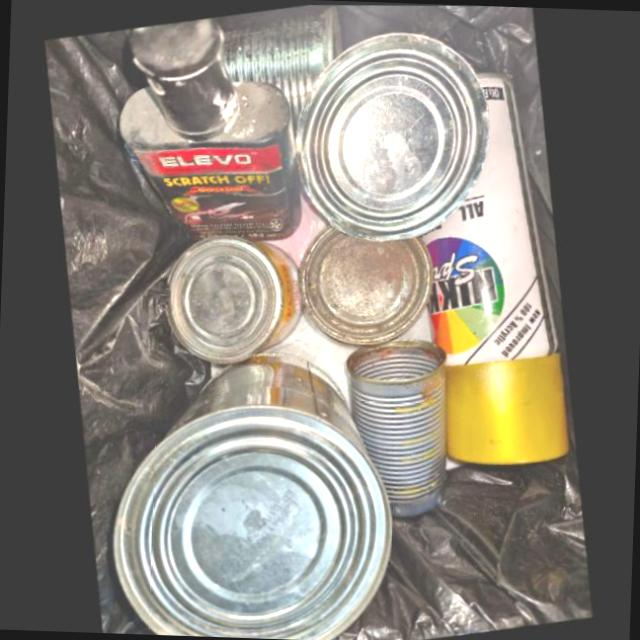chai_nhua: (118, 15, 301, 238)
nhom: (111, 349, 393, 640), (422, 69, 569, 463), (294, 28, 489, 239), (343, 337, 446, 516), (164, 231, 301, 362), (296, 222, 432, 343), (215, 2, 341, 116)
